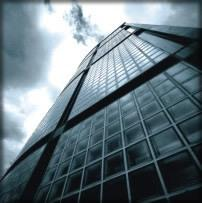building: (0, 22, 202, 203)
